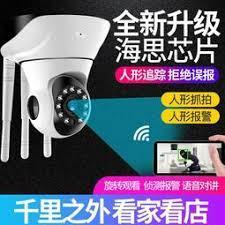maru: (23, 60, 102, 143)
